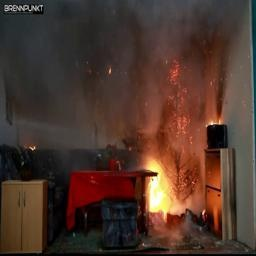fire: (137, 127, 200, 232)
